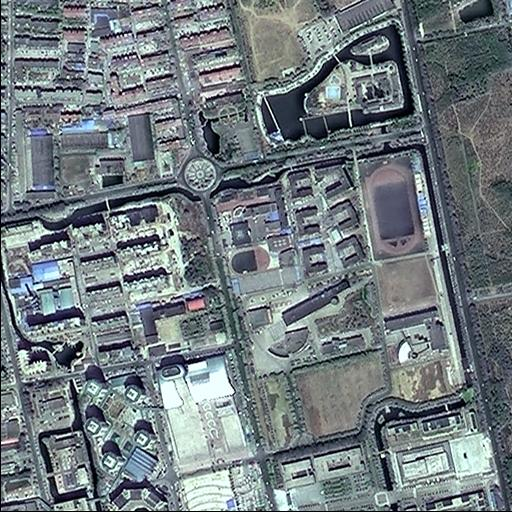school: (223, 231, 300, 280)
